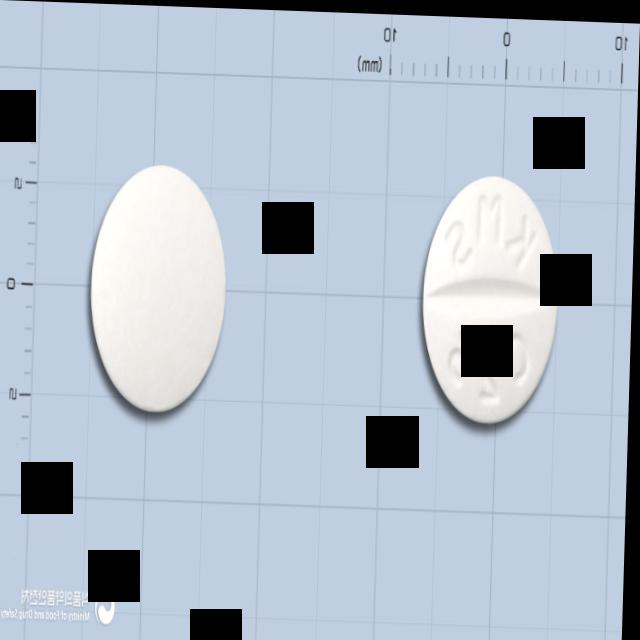Cyspec: (420, 169, 563, 424), (89, 160, 230, 415)
